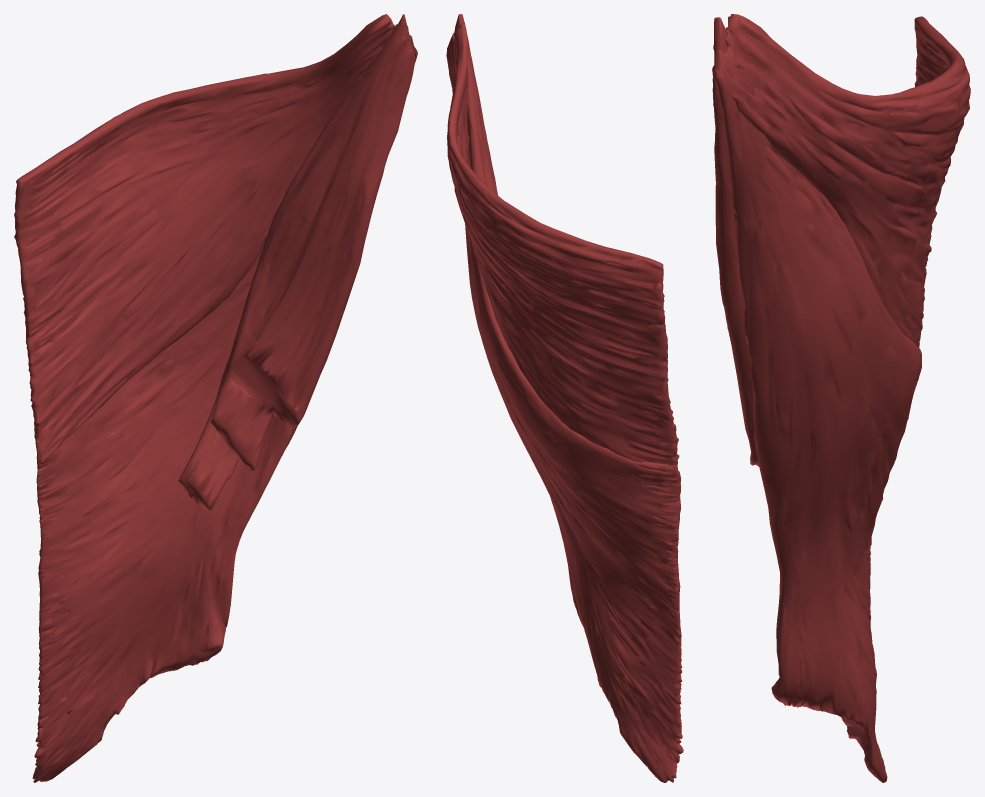
Rendered from latissimus-dorsi-muscle-l.glb.
3 views of the same model, side by side, from view 1: azimuth 30°, elevation 25°; view 2: azimuth 150°, elevation 25°; view 3: azimuth 270°, elevation 25° (orthographic). The views are drawn at different scales.
Visible parts, largest first — view 1: Latissimus dorsi muscle.l; view 2: Latissimus dorsi muscle.l; view 3: Latissimus dorsi muscle.l.
Part boxes in pixels (box(x1,y1,x2,y2)): Latissimus dorsi muscle.l: box(14, 14, 417, 782); Latissimus dorsi muscle.l: box(446, 14, 683, 782); Latissimus dorsi muscle.l: box(712, 14, 970, 782).
Bounding box in the file's own units: 0.1868 × 0.4104 × 0.1017.
